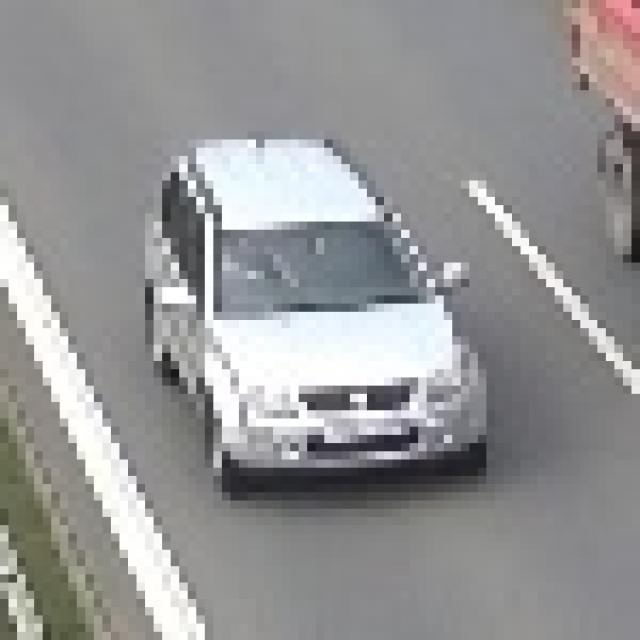SUV: (151, 150, 478, 479)
